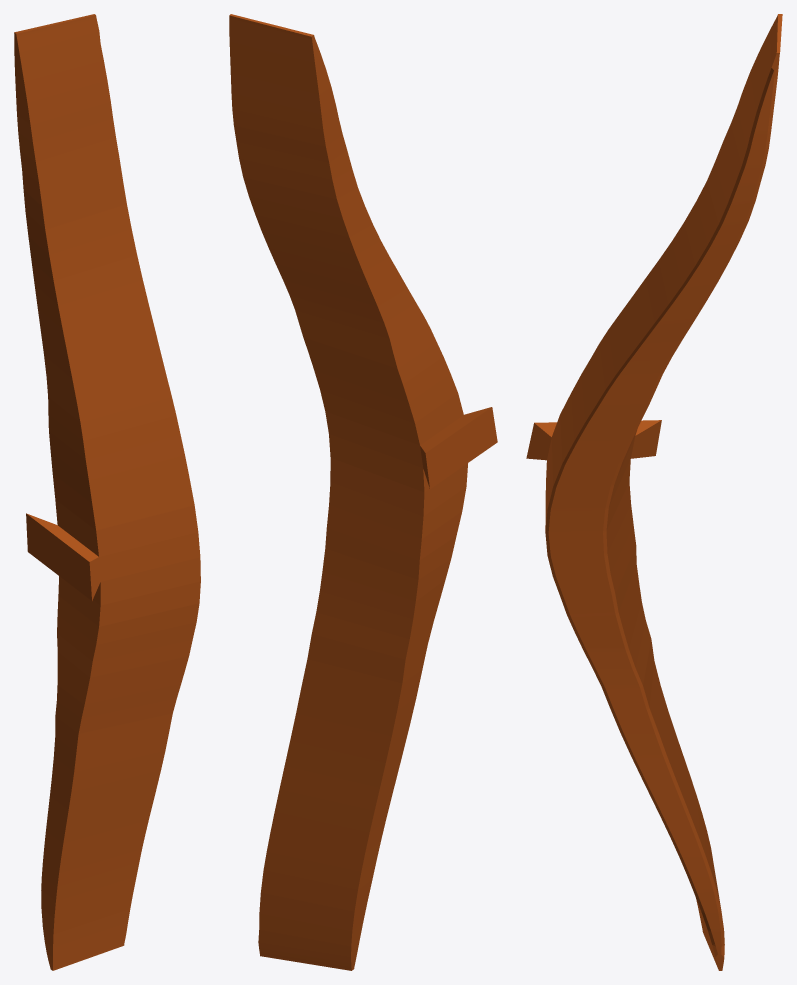
The model's file is SilverVein4.obj.
3 views of the same model, side by side, from view 1: azimuth 30°, elevation 25°; view 2: azimuth 150°, elevation 25°; view 3: azimuth 270°, elevation 25° (orthographic). The views are drawn at different scales.
Visible parts, largest first — view 1: Cube.003; view 2: Cube.003; view 3: Cube.003.
Boxes of the visible parts, box(x1,y1,x2,y2) form: Cube.003: box(14, 14, 200, 970); Cube.003: box(229, 14, 497, 970); Cube.003: box(526, 14, 782, 970).
Size of the model in its own units: 0.4266 by 2.8 by 0.709.
